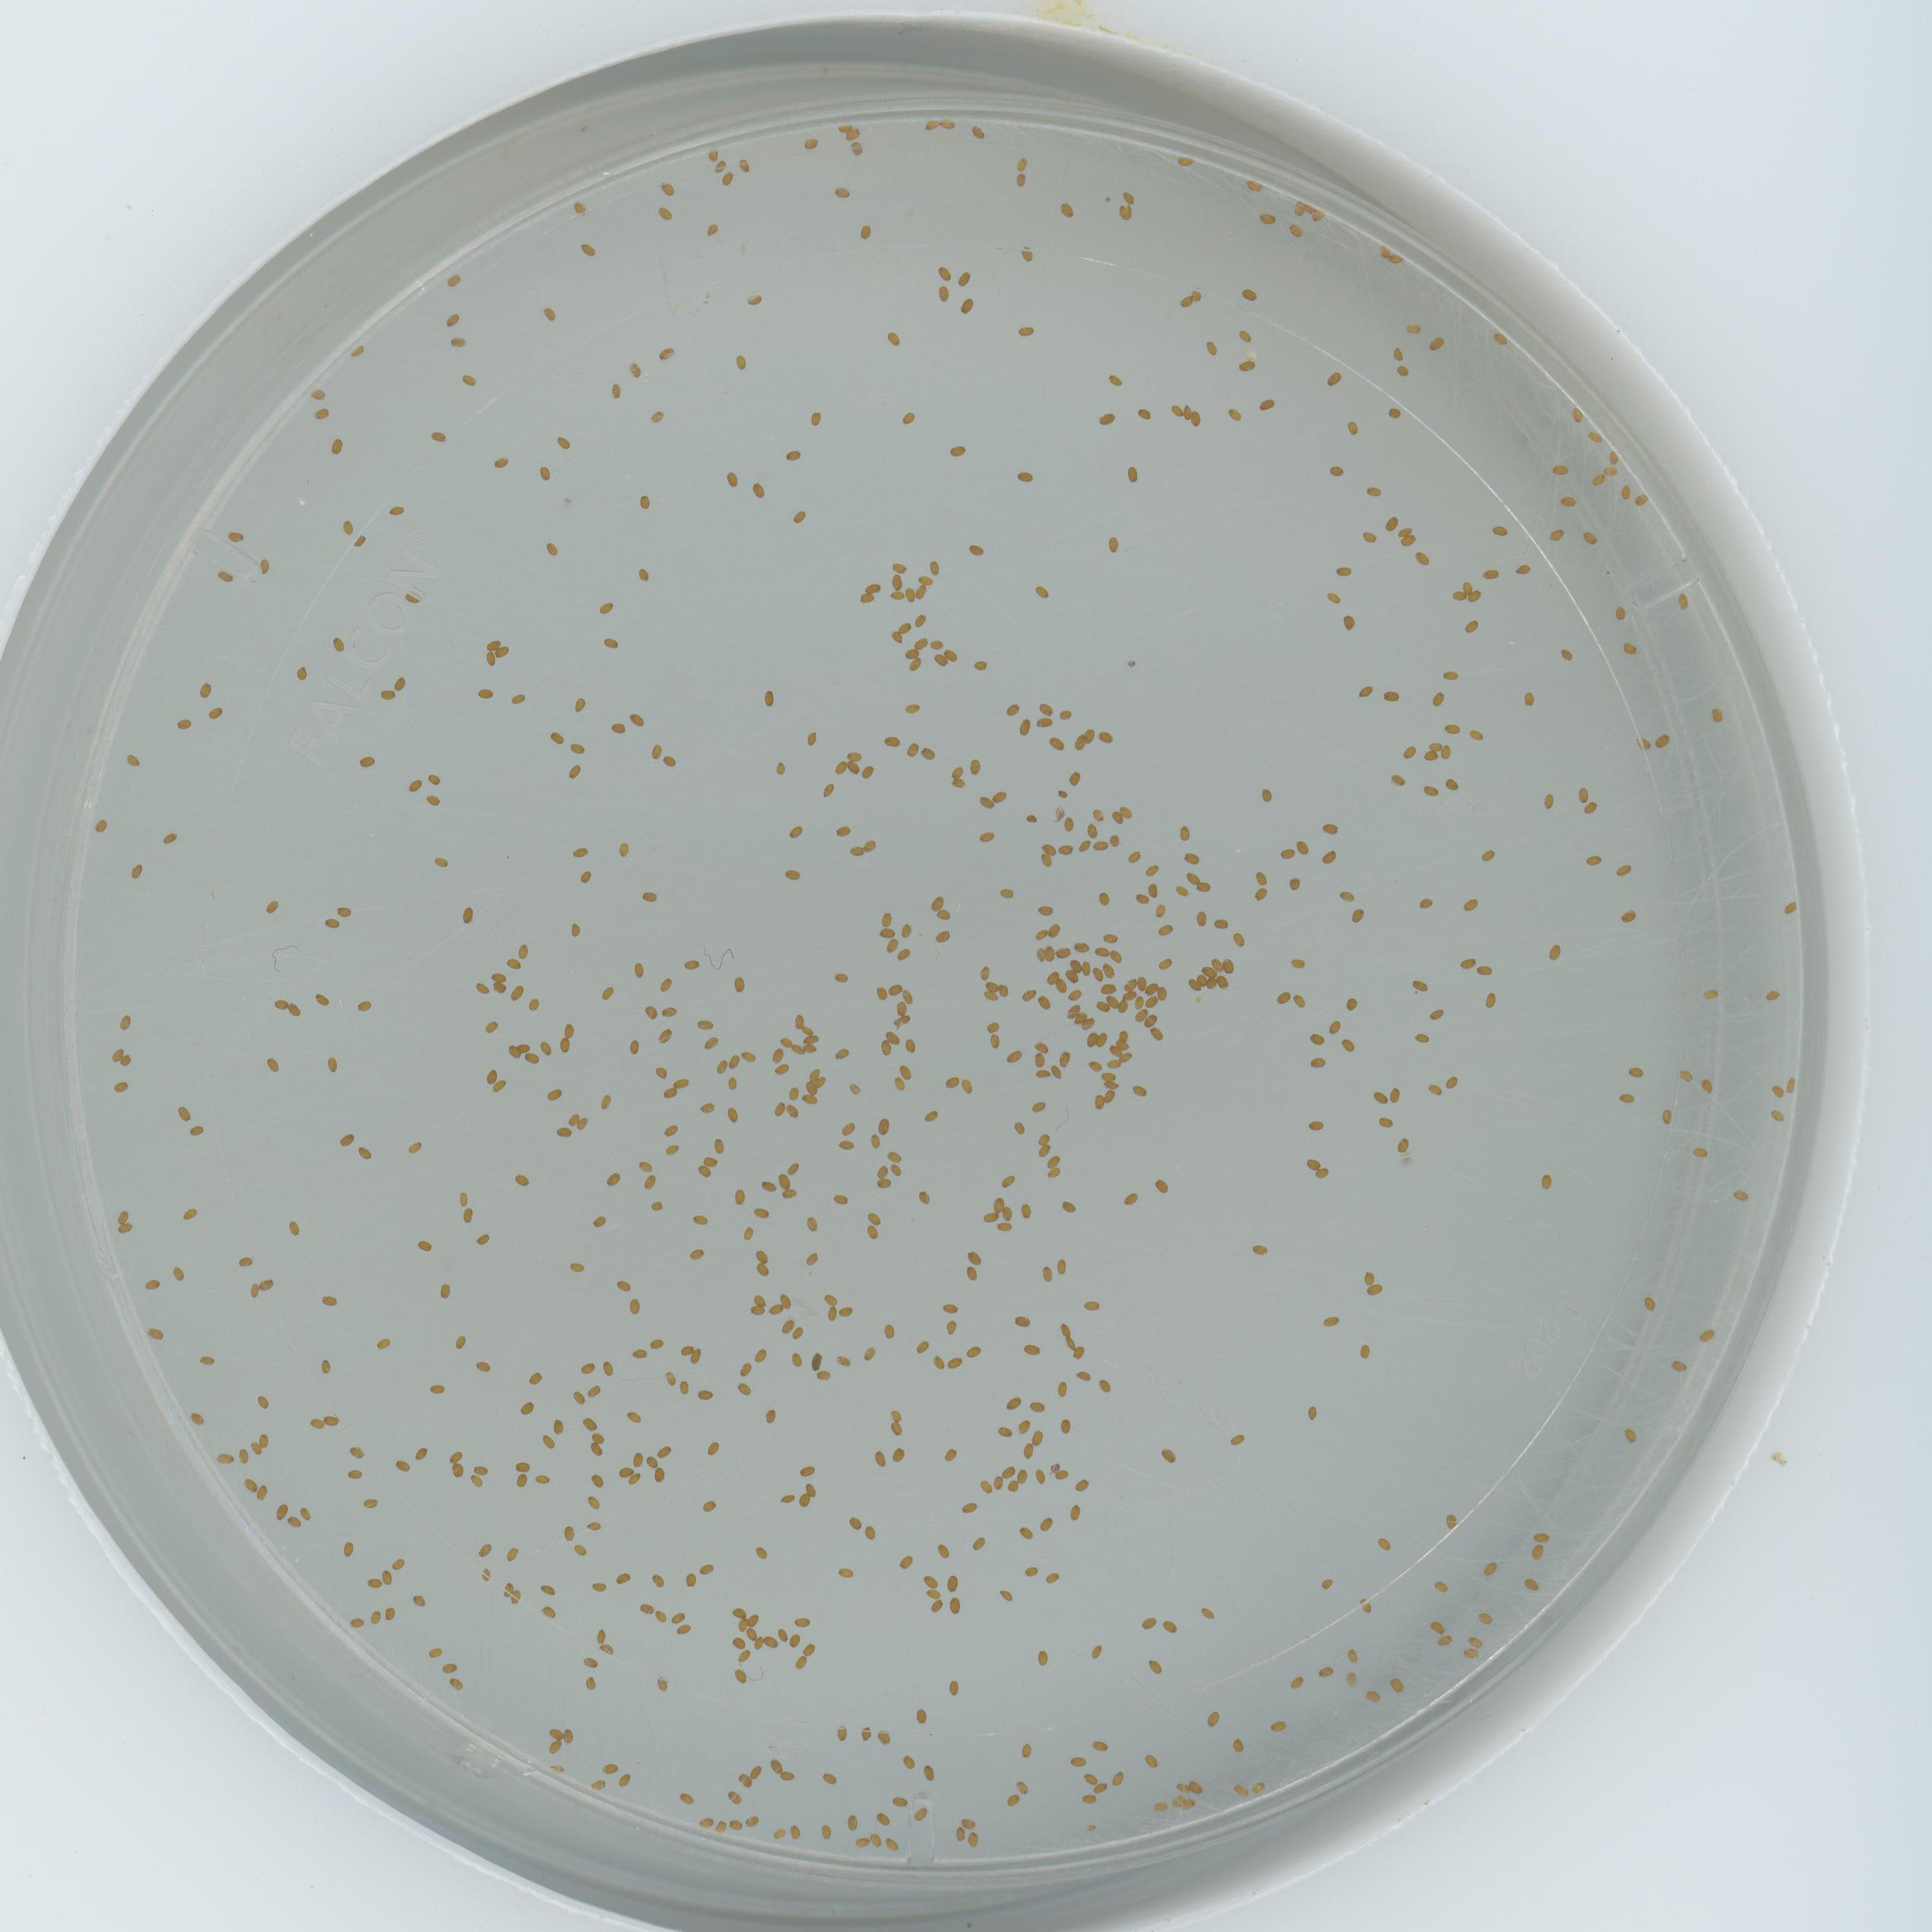seed: (403, 587, 426, 607), (1454, 955, 1479, 973), (957, 1500, 978, 1520), (1658, 1104, 1677, 1125), (1677, 1065, 1697, 1086), (1700, 1076, 1720, 1097), (1780, 897, 1799, 918), (1491, 329, 1513, 349), (1568, 407, 1589, 426), (1587, 426, 1608, 446), (1369, 242, 1391, 262), (1116, 202, 1134, 225), (899, 1062, 918, 1081), (1017, 1201, 1037, 1221), (1762, 987, 1782, 1007), (1313, 205, 1332, 225), (1035, 853, 1056, 870), (1391, 1675, 1408, 1697), (1341, 1670, 1359, 1691), (1460, 1645, 1481, 1663), (1476, 1560, 1497, 1578), (1387, 249, 1408, 267), (1051, 1467, 1074, 1483), (587, 1778, 610, 1794), (734, 156, 754, 173), (878, 1115, 895, 1134), (890, 1074, 909, 1092), (874, 1729, 893, 1746), (626, 1295, 646, 1313), (1017, 985, 1037, 1003), (957, 1079, 975, 1099), (1362, 1686, 1380, 1706), (1357, 1598, 1375, 1617), (1589, 471, 1608, 488), (885, 1838, 904, 1856), (936, 283, 952, 304), (1476, 961, 1497, 977), (1424, 336, 1445, 352), (1690, 1145, 1711, 1161), (1476, 1612, 1497, 1628), (632, 957, 646, 980), (1171, 1796, 1194, 1810), (640, 888, 658, 906), (476, 685, 494, 702), (936, 264, 954, 281), (732, 352, 750, 370), (255, 557, 272, 575), (833, 182, 851, 200), (458, 906, 476, 924), (658, 1026, 676, 1044), (899, 1553, 916, 1571), (892, 1792, 909, 1810), (839, 1562, 856, 1580), (653, 1062, 671, 1079), (872, 1449, 890, 1467), (510, 984, 527, 1001), (876, 1810, 893, 1828), (147, 1323, 165, 1341), (216, 1449, 234, 1467), (911, 1805, 929, 1822), (901, 987, 918, 1005), (821, 1769, 839, 1787), (1430, 690, 1447, 708), (1016, 465, 1033, 483), (1491, 520, 1509, 538), (1150, 901, 1168, 918), (1238, 283, 1256, 301), (1058, 200, 1076, 218), (1016, 320, 1033, 338), (1093, 892, 1111, 909), (1157, 955, 1175, 973), (1580, 529, 1598, 547), (1157, 1444, 1175, 1461), (1033, 1067, 1051, 1085), (959, 1815, 977, 1833), (1769, 1109, 1787, 1127), (1530, 1545, 1548, 1562), (939, 117, 957, 134), (957, 297, 973, 317), (695, 1385, 715, 1401), (879, 1039, 895, 1058), (725, 1789, 745, 1805), (1171, 885, 1191, 901), (1382, 515, 1401, 531), (1003, 1047, 1023, 1063), (1102, 961, 1118, 980), (1465, 1633, 1484, 1649), (1605, 451, 1624, 467), (1394, 524, 1415, 538), (1097, 1028, 1111, 1049), (1675, 591, 1690, 612), (885, 734, 902, 750), (890, 559, 908, 575), (598, 598, 616, 614), (207, 706, 225, 722), (784, 867, 801, 883), (904, 741, 922, 757), (901, 409, 918, 425), (863, 579, 881, 594), (602, 633, 619, 649), (934, 927, 952, 943), (492, 453, 510, 469), (863, 837, 881, 853), (127, 865, 145, 881), (340, 520, 357, 536), (550, 729, 566, 747), (196, 681, 212, 699), (750, 481, 768, 497), (264, 899, 281, 915), (425, 793, 442, 809), (428, 426, 446, 442), (334, 904, 352, 920), (327, 437, 345, 453), (658, 180, 676, 196), (915, 633, 931, 651), (161, 830, 177, 847), (359, 752, 375, 770), (809, 410, 826, 426), (540, 304, 557, 320), (566, 920, 584, 936), (579, 241, 596, 257), (904, 699, 920, 717), (886, 329, 904, 345), (216, 566, 234, 582), (915, 582, 931, 600), (628, 361, 644, 379), (448, 1447, 465, 1463), (697, 1016, 715, 1031), (890, 1445, 908, 1461), (745, 1813, 763, 1829), (701, 1097, 718, 1113), (361, 1495, 379, 1511), (644, 1003, 662, 1019), (264, 1054, 281, 1070), (835, 1044, 853, 1060), (540, 1583, 557, 1599), (943, 1575, 959, 1592), (915, 1338, 932, 1353), (901, 1037, 918, 1053), (175, 1104, 191, 1122), (582, 1654, 600, 1670), (580, 1414, 598, 1430), (389, 1553, 405, 1571), (922, 1573, 939, 1589), (844, 1813, 862, 1829), (833, 1189, 851, 1205), (113, 1077, 129, 1095), (867, 1207, 885, 1223), (547, 1085, 564, 1100), (770, 1047, 787, 1063), (653, 1608, 669, 1626), (840, 1118, 858, 1134), (536, 1039, 554, 1054), (655, 1442, 672, 1458), (437, 1281, 453, 1299), (637, 1157, 655, 1173), (561, 1525, 577, 1543), (518, 1398, 536, 1414), (295, 1504, 313, 1520), (786, 1083, 801, 1100), (920, 1764, 936, 1782), (651, 1467, 669, 1483), (534, 1470, 552, 1486), (642, 1173, 660, 1189), (741, 1226, 759, 1242), (732, 1187, 750, 1203), (778, 1030, 794, 1047), (702, 1497, 718, 1514), (598, 1093, 616, 1109), (476, 1541, 494, 1557), (382, 1605, 398, 1622), (663, 1141, 681, 1157), (770, 1100, 786, 1118), (800, 1461, 817, 1477), (711, 1136, 729, 1152), (366, 1608, 384, 1624), (428, 1378, 446, 1394), (702, 1033, 720, 1049), (320, 1290, 338, 1306), (752, 1346, 770, 1362), (637, 1599, 655, 1615), (441, 1660, 458, 1675), (570, 1389, 587, 1405), (347, 1444, 364, 1460), (915, 1187, 932, 1203), (285, 1219, 303, 1235), (725, 1104, 741, 1122), (568, 1256, 586, 1272), (787, 1102, 803, 1120), (833, 1727, 851, 1743), (803, 1481, 819, 1499), (817, 1824, 835, 1840), (736, 1773, 754, 1789), (1182, 851, 1200, 867), (1483, 564, 1500, 580), (1320, 849, 1338, 865), (1123, 465, 1139, 483), (1422, 782, 1440, 798), (1382, 688, 1399, 704), (1575, 787, 1592, 803), (1587, 851, 1603, 869), (1389, 771, 1407, 787), (1182, 870, 1200, 886), (968, 759, 984, 777), (1100, 929, 1118, 945), (1557, 646, 1575, 662), (1155, 920, 1173, 936), (1621, 908, 1638, 924), (1192, 911, 1208, 929), (1339, 614, 1357, 630), (1361, 529, 1378, 545), (991, 787, 1008, 803), (1514, 561, 1532, 577), (1175, 826, 1192, 842), (1338, 888, 1355, 904), (1058, 817, 1076, 833), (1389, 345, 1407, 361), (1350, 906, 1366, 924), (1003, 702, 1021, 718), (1479, 847, 1497, 863), (1016, 718, 1033, 734), (1031, 582, 1047, 600), (1258, 211, 1276, 226), (1323, 370, 1341, 386), (1097, 409, 1115, 425), (1394, 361, 1410, 379), (1070, 936, 1088, 952), (1548, 525, 1566, 541), (1106, 810, 1123, 826), (1307, 1028, 1325, 1044), (1014, 1417, 1031, 1433), (1325, 1017, 1343, 1033), (1339, 1035, 1357, 1051), (1343, 996, 1361, 1012), (1426, 1079, 1444, 1095), (1154, 1178, 1171, 1194), (1079, 1769, 1097, 1785), (1035, 994, 1053, 1010), (1074, 1368, 1092, 1384), (1026, 1398, 1044, 1414), (1012, 1311, 1030, 1327), (1085, 1054, 1102, 1070), (1042, 1569, 1060, 1585), (1628, 1062, 1645, 1077), (1067, 1753, 1085, 1769), (1304, 1154, 1320, 1171), (1090, 1737, 1108, 1753), (1122, 1189, 1139, 1205), (1030, 1468, 1047, 1484), (1392, 1136, 1410, 1152), (1021, 1339, 1039, 1355), (1053, 1258, 1069, 1276), (1035, 1516, 1053, 1532), (1065, 1504, 1083, 1520), (1109, 1769, 1125, 1787), (1155, 985, 1171, 1003), (1376, 1113, 1394, 1129), (1203, 1711, 1219, 1729), (1031, 1037, 1049, 1053), (1323, 1311, 1341, 1327), (1049, 1063, 1067, 1079), (1069, 1345, 1086, 1361), (1145, 1660, 1162, 1675), (1141, 1753, 1159, 1769), (1288, 1675, 1306, 1691), (1642, 1295, 1660, 1311), (1104, 1054, 1120, 1072), (1228, 1737, 1246, 1753), (1251, 1240, 1269, 1256), (1286, 225, 1304, 241), (1769, 1083, 1785, 1100), (111, 1047, 127, 1065), (1270, 1718, 1288, 1734), (1189, 1780, 1207, 1796), (1175, 1782, 1192, 1798), (1783, 1077, 1799, 1095), (1633, 492, 1651, 508), (1246, 177, 1263, 193), (1178, 152, 1196, 168), (922, 117, 939, 133), (478, 1566, 494, 1583), (715, 1056, 729, 1076), (600, 1762, 619, 1776), (515, 1039, 534, 1053), (1035, 904, 1054, 918), (1223, 955, 1237, 975), (1085, 1028, 1099, 1047), (803, 136, 823, 150), (1601, 465, 1621, 479), (835, 119, 855, 133), (545, 1762, 564, 1776), (1001, 1203, 1014, 1224), (1530, 1530, 1552, 1543), (879, 909, 895, 925), (913, 612, 929, 628), (379, 688, 395, 704), (637, 494, 653, 510), (616, 842, 632, 858), (846, 761, 862, 777), (610, 720, 626, 736), (389, 502, 405, 518), (313, 405, 329, 421), (556, 435, 571, 451), (725, 472, 741, 488), (948, 442, 964, 458), (948, 764, 964, 780), (426, 771, 442, 787), (609, 382, 625, 398), (571, 844, 587, 860), (451, 334, 467, 350), (92, 817, 108, 833), (649, 743, 665, 759), (433, 855, 449, 870), (292, 667, 308, 683), (331, 637, 347, 653), (571, 697, 587, 713), (324, 915, 340, 931), (651, 407, 667, 423), (823, 782, 839, 798), (879, 924, 895, 939), (929, 895, 945, 911), (536, 465, 552, 481), (761, 690, 777, 706), (931, 637, 947, 653), (863, 764, 879, 780), (791, 510, 807, 525), (350, 534, 366, 550), (786, 446, 801, 462), (226, 527, 242, 543), (849, 140, 865, 156), (858, 225, 874, 241), (660, 345, 676, 361), (462, 372, 478, 387), (706, 221, 722, 237), (897, 617, 913, 633), (124, 754, 140, 770), (886, 938, 902, 954), (805, 731, 821, 747), (925, 561, 941, 577), (849, 844, 865, 860), (571, 200, 587, 216), (713, 156, 729, 172), (955, 272, 971, 288), (918, 571, 934, 587), (881, 1322, 897, 1338), (754, 1203, 770, 1219), (451, 1463, 467, 1479), (356, 996, 372, 1012), (858, 1727, 874, 1743), (318, 1357, 334, 1373), (410, 1592, 426, 1608), (794, 1614, 810, 1629), (651, 1573, 667, 1589), (483, 1017, 499, 1033), (662, 1003, 678, 1019), (540, 1433, 556, 1449), (589, 1472, 605, 1488), (561, 1023, 577, 1039), (375, 1334, 391, 1350), (235, 1449, 251, 1465), (616, 1276, 632, 1292), (605, 1169, 621, 1185), (550, 1417, 566, 1433), (525, 996, 541, 1012), (593, 1628, 609, 1644), (863, 1525, 879, 1541), (663, 1122, 679, 1138), (626, 1407, 642, 1422), (729, 1815, 745, 1831), (794, 1654, 810, 1670), (777, 1171, 793, 1187), (586, 1382, 602, 1398), (945, 1072, 961, 1088), (632, 1345, 648, 1361), (789, 1350, 805, 1366), (947, 1353, 962, 1369), (455, 1189, 471, 1205), (591, 1212, 607, 1228), (412, 1444, 428, 1460), (888, 1146, 904, 1162), (863, 1345, 879, 1361), (888, 1421, 904, 1437), (324, 1053, 340, 1069), (313, 991, 329, 1007), (483, 1067, 499, 1083), (734, 1668, 750, 1684), (600, 1361, 616, 1376), (474, 1230, 490, 1246), (591, 1578, 607, 1594), (271, 996, 287, 1012), (170, 1263, 186, 1279), (801, 1640, 817, 1656), (888, 980, 904, 996), (847, 1514, 863, 1530), (474, 1357, 490, 1373), (778, 1318, 794, 1334), (901, 1753, 916, 1769), (835, 1352, 851, 1368), (349, 1614, 364, 1629), (947, 1598, 962, 1614), (380, 1569, 396, 1585), (699, 1560, 715, 1576), (586, 1495, 602, 1511), (255, 1392, 271, 1408), (943, 1318, 959, 1334), (823, 1290, 839, 1306), (890, 1407, 906, 1422), (453, 1332, 469, 1348), (688, 1244, 704, 1260), (117, 1014, 133, 1030), (617, 1771, 633, 1787), (600, 1642, 616, 1658), (241, 1476, 257, 1491), (683, 1571, 699, 1587), (189, 1122, 205, 1138), (462, 1207, 478, 1223), (272, 1502, 288, 1518), (416, 1237, 432, 1253), (805, 1249, 821, 1265), (541, 1605, 557, 1621), (347, 1465, 363, 1481), (874, 985, 890, 1001), (515, 1171, 531, 1187), (694, 1210, 709, 1226), (189, 1408, 205, 1424), (340, 1541, 356, 1557), (816, 1368, 832, 1384), (513, 1474, 529, 1490), (947, 1679, 962, 1695), (674, 1072, 690, 1088), (626, 1037, 642, 1053), (809, 1353, 824, 1369), (580, 1361, 596, 1376), (752, 1290, 768, 1306), (630, 1451, 646, 1467), (886, 1026, 902, 1042), (943, 1445, 959, 1461), (426, 1644, 442, 1660), (467, 1474, 483, 1490), (571, 1541, 587, 1557), (671, 1608, 686, 1624), (755, 1261, 771, 1277), (847, 1079, 863, 1095), (775, 1060, 791, 1076), (761, 1177, 777, 1192), (731, 1603, 747, 1619), (584, 1675, 600, 1691), (731, 1635, 747, 1651), (867, 1224, 883, 1240), (287, 1513, 303, 1529), (780, 1292, 796, 1307), (690, 1348, 706, 1364), (913, 1707, 929, 1723), (807, 1065, 823, 1081), (547, 1741, 563, 1757), (499, 1582, 515, 1598), (803, 1081, 819, 1097), (117, 1219, 133, 1235), (855, 1833, 870, 1849), (732, 1619, 748, 1635), (1047, 736, 1063, 752), (1417, 895, 1433, 911), (1444, 720, 1460, 736), (1203, 340, 1219, 356), (1463, 617, 1479, 633), (1258, 787, 1274, 803), (1329, 462, 1345, 478), (1279, 846, 1295, 862), (1083, 823, 1099, 839), (1037, 701, 1053, 717), (1463, 895, 1479, 911), (1177, 294, 1192, 310), (1366, 481, 1382, 497), (1106, 372, 1122, 387), (1322, 821, 1338, 837), (1125, 849, 1141, 865), (1077, 839, 1093, 855), (1541, 793, 1557, 809), (1104, 536, 1120, 552), (1099, 729, 1115, 745), (1345, 419, 1361, 435), (1237, 327, 1253, 343), (1414, 550, 1430, 566), (1238, 356, 1254, 372), (1253, 888, 1269, 904), (1325, 589, 1341, 605), (1046, 922, 1062, 938), (1522, 690, 1537, 706), (1253, 872, 1269, 888), (1258, 396, 1274, 412), (1212, 915, 1228, 931), (1546, 945, 1562, 961), (1230, 931, 1246, 947), (1168, 402, 1184, 418), (1295, 839, 1311, 855), (1054, 708, 1070, 724), (1468, 727, 1484, 743), (1090, 807, 1106, 823), (1023, 810, 1039, 826), (1106, 833, 1122, 849), (1617, 483, 1633, 499), (1656, 732, 1672, 748), (1017, 246, 1033, 262), (1622, 640, 1638, 656), (1067, 985, 1083, 1001), (1428, 1007, 1444, 1023), (1139, 1614, 1155, 1629), (1056, 1417, 1072, 1433), (1161, 1619, 1177, 1635), (1304, 1405, 1320, 1421), (1014, 1778, 1030, 1794), (1033, 1649, 1049, 1665), (1019, 1442, 1035, 1458), (1366, 1281, 1382, 1297), (1316, 1663, 1332, 1679), (1007, 1392, 1023, 1408), (1037, 1265, 1053, 1281), (1430, 1619, 1445, 1635), (996, 1422, 1012, 1438), (1483, 991, 1499, 1007), (1376, 1536, 1392, 1552), (1012, 1118, 1028, 1134), (1083, 1295, 1099, 1311), (966, 1343, 982, 1359), (1102, 1088, 1118, 1104), (1309, 1053, 1325, 1069), (1028, 1430, 1044, 1445), (1307, 1115, 1323, 1131), (998, 1587, 1014, 1603), (966, 1249, 982, 1265), (1414, 1028, 1430, 1044), (1230, 1430, 1246, 1445), (985, 1017, 1001, 1033), (1371, 1088, 1387, 1104), (1017, 1744, 1033, 1760), (977, 966, 993, 982), (1023, 1562, 1039, 1578), (1042, 970, 1058, 985), (1444, 1513, 1460, 1529), (987, 1033, 1003, 1049), (977, 1479, 993, 1495), (1150, 1026, 1166, 1042), (1001, 1171, 1017, 1187), (1537, 1173, 1553, 1189), (1122, 975, 1138, 991), (1198, 1605, 1214, 1621), (1345, 1647, 1361, 1663), (1123, 985, 1139, 1001), (1233, 1782, 1249, 1798), (1251, 1782, 1267, 1798), (1152, 1799, 1168, 1815), (1700, 1329, 1716, 1345), (1732, 1187, 1748, 1203), (1635, 734, 1651, 750), (1709, 708, 1725, 724), (1069, 957, 1085, 973), (899, 924, 916, 938), (566, 764, 584, 778), (543, 541, 561, 556), (577, 870, 594, 885), (906, 658, 924, 672), (858, 591, 876, 605), (904, 586, 918, 603), (310, 387, 327, 402), (839, 1136, 856, 1150), (472, 980, 490, 994), (235, 1253, 253, 1267), (736, 1380, 754, 1394), (922, 1106, 939, 1120), (867, 1132, 885, 1146), (741, 1047, 759, 1062), (695, 1164, 713, 1178), (525, 1371, 543, 1385), (931, 1353, 948, 1368), (754, 1247, 771, 1261), (780, 1769, 798, 1783), (763, 1408, 780, 1422), (803, 1215, 821, 1230), (793, 1325, 810, 1339), (642, 1454, 660, 1468), (697, 1815, 715, 1829), (492, 1079, 510, 1093), (115, 1207, 129, 1224), (787, 1042, 805, 1056), (1224, 407, 1242, 421), (1143, 863, 1161, 878), (1194, 881, 1212, 895), (1035, 715, 1053, 729), (1334, 564, 1352, 579), (1092, 943, 1109, 957), (1290, 955, 1307, 970), (1000, 1463, 1017, 1477), (1072, 1477, 1090, 1491), (1016, 1525, 1033, 1539), (1058, 1049, 1072, 1067), (1053, 1382, 1070, 1396), (1079, 1017, 1097, 1031), (1431, 1580, 1449, 1594), (1072, 1012, 1090, 1026), (1306, 198, 1320, 216), (1079, 959, 1093, 977), (844, 127, 862, 142), (349, 345, 366, 359), (1550, 465, 1573, 476), (1559, 497, 1582, 508), (504, 957, 524, 970), (1191, 410, 1203, 430), (628, 713, 644, 727), (658, 205, 674, 219), (635, 566, 651, 580), (510, 692, 525, 706), (847, 747, 863, 761), (932, 653, 948, 667), (391, 676, 407, 690), (773, 761, 789, 775), (444, 311, 460, 326), (175, 717, 191, 731), (662, 754, 678, 768), (720, 170, 736, 184), (943, 648, 959, 662), (407, 778, 423, 793), (904, 648, 920, 662), (920, 747, 936, 761), (890, 575, 904, 591), (570, 741, 586, 755), (517, 943, 531, 959), (895, 947, 911, 961), (748, 292, 764, 306), (837, 824, 853, 839), (446, 272, 462, 287), (395, 1458, 410, 1472), (504, 1546, 518, 1562), (524, 1049, 540, 1063), (732, 977, 748, 991), (557, 1037, 573, 1051), (448, 1679, 464, 1693), (839, 1304, 855, 1318), (515, 1458, 531, 1472), (878, 1177, 893, 1191), (586, 1518, 602, 1532), (663, 1085, 679, 1099), (356, 1145, 372, 1159), (616, 1571, 632, 1585), (929, 1599, 945, 1614), (777, 1628, 791, 1644), (338, 1131, 354, 1145), (322, 1412, 338, 1426), (258, 1276, 274, 1290), (143, 1276, 159, 1290), (600, 985, 616, 1000), (706, 1440, 722, 1454), (649, 1336, 665, 1350), (287, 1001, 303, 1016), (745, 1628, 759, 1644), (472, 1461, 488, 1476), (704, 1152, 720, 1166), (198, 1352, 214, 1366), (628, 1472, 644, 1486), (791, 1014, 807, 1028), (591, 1430, 607, 1444), (548, 1725, 563, 1741), (755, 1545, 770, 1560), (747, 1612, 763, 1626), (768, 1302, 784, 1316), (941, 1300, 957, 1315), (658, 978, 674, 993), (308, 1415, 324, 1430), (649, 1198, 665, 1212), (556, 1123, 571, 1138), (364, 1576, 380, 1591), (789, 1824, 803, 1840), (824, 1306, 839, 1322), (782, 1187, 798, 1201), (768, 1759, 784, 1773), (780, 1490, 796, 1504), (407, 1138, 423, 1152), (655, 1675, 669, 1691), (508, 1042, 522, 1058), (787, 1157, 801, 1173), (678, 1622, 692, 1638), (798, 1493, 814, 1507), (617, 1463, 632, 1479), (679, 1341, 694, 1357), (925, 1585, 941, 1599), (833, 970, 849, 984), (893, 1000, 908, 1016), (679, 1790, 695, 1805), (952, 1828, 966, 1844), (663, 1371, 679, 1385), (249, 1440, 264, 1456), (895, 1012, 911, 1026), (764, 1633, 778, 1649), (257, 1433, 271, 1449), (870, 1831, 886, 1845), (978, 796, 994, 810), (1286, 878, 1302, 892), (968, 543, 984, 557), (1617, 863, 1633, 878), (1145, 885, 1161, 899), (1444, 777, 1460, 791), (1422, 750, 1438, 764), (1065, 771, 1081, 786), (1442, 669, 1458, 683), (1401, 745, 1417, 759), (1357, 685, 1373, 699), (1438, 747, 1454, 761), (980, 830, 996, 844), (1136, 405, 1150, 421), (1109, 948, 1125, 962), (1467, 589, 1483, 603), (1385, 405, 1401, 419), (1120, 189, 1136, 203), (1583, 801, 1599, 816), (1072, 734, 1086, 750), (1012, 156, 1028, 170), (1053, 945, 1069, 959), (1012, 172, 1028, 186), (1000, 886, 1016, 901), (1031, 927, 1047, 941), (1092, 839, 1106, 855), (1053, 787, 1069, 801), (1182, 405, 1196, 421), (1083, 727, 1097, 743), (970, 126, 985, 140), (1428, 738, 1444, 752), (1276, 989, 1292, 1003), (1357, 1343, 1373, 1357), (1412, 978, 1428, 993), (1293, 993, 1307, 1008), (1444, 1074, 1460, 1088), (1005, 1479, 1021, 1493), (1088, 1645, 1104, 1660), (1035, 1131, 1051, 1145), (1054, 1320, 1070, 1334), (1097, 1378, 1113, 1392), (996, 1219, 1012, 1233), (1058, 1198, 1074, 1212), (982, 1208, 998, 1223), (1131, 1083, 1146, 1097), (1092, 1780, 1108, 1794), (1318, 1576, 1334, 1591), (1389, 1085, 1403, 1100), (1028, 1099, 1044, 1113), (1005, 1792, 1021, 1806), (1215, 975, 1230, 991), (1115, 1000, 1131, 1014), (1093, 998, 1109, 1012), (1361, 1270, 1376, 1284), (966, 1263, 980, 1279), (1619, 1090, 1635, 1104), (970, 1536, 985, 1550), (1100, 1069, 1116, 1083), (996, 982, 1012, 996), (1090, 966, 1104, 982), (1134, 1007, 1148, 1023), (989, 1474, 1003, 1490), (1081, 1790, 1097, 1805), (991, 1196, 1005, 1212), (1115, 1028, 1131, 1042), (966, 1833, 980, 1849), (1065, 1001, 1079, 1017), (771, 1826, 787, 1840), (812, 1074, 828, 1088), (982, 991, 998, 1005), (1120, 1049, 1136, 1063), (888, 632, 906, 644), (589, 1444, 607, 1456), (490, 970, 508, 982), (492, 982, 510, 994), (1097, 980, 1115, 993), (1200, 966, 1217, 978), (801, 1042, 819, 1054), (1046, 945, 1056, 964), (1102, 1079, 1122, 1090), (833, 761, 847, 775), (495, 646, 510, 660), (791, 824, 805, 839), (483, 653, 497, 667), (890, 1162, 904, 1177), (936, 1543, 950, 1557), (740, 1362, 754, 1376), (563, 1729, 577, 1743), (738, 1649, 752, 1663), (750, 1764, 764, 1778), (182, 1205, 196, 1219), (789, 1633, 803, 1647), (678, 1380, 692, 1394), (725, 1074, 740, 1088), (876, 1162, 890, 1177), (577, 1115, 591, 1129), (713, 1819, 727, 1833), (257, 1484, 271, 1499), (510, 1589, 524, 1603), (752, 1638, 766, 1652), (1058, 844, 1072, 858), (1134, 893, 1148, 908), (973, 658, 987, 672), (1191, 287, 1205, 301), (1120, 803, 1134, 817), (1016, 1468, 1030, 1483), (1187, 978, 1201, 993), (1054, 978, 1069, 993), (1046, 1154, 1060, 1168), (1141, 978, 1155, 993), (1065, 970, 1079, 984), (1060, 1336, 1074, 1350), (1030, 1051, 1044, 1065), (1525, 1578, 1539, 1592), (485, 637, 501, 649), (936, 909, 952, 922), (890, 591, 906, 603), (729, 1053, 741, 1069), (803, 1093, 819, 1106), (750, 1304, 766, 1316), (119, 1054, 134, 1067), (1451, 589, 1467, 602), (1399, 534, 1415, 547), (1039, 842, 1054, 855), (1460, 580, 1476, 593), (1092, 1093, 1104, 1109), (1106, 1042, 1122, 1054), (1315, 1166, 1330, 1178), (1044, 1166, 1060, 1178), (1437, 1635, 1453, 1647), (1116, 1040, 1132, 1053), (1145, 1010, 1157, 1026), (985, 977, 998, 993), (1617, 605, 1629, 621), (800, 1026, 816, 1039), (1207, 975, 1219, 991), (1293, 202, 1306, 218), (950, 777, 964, 789), (246, 1283, 258, 1297), (566, 1109, 579, 1123), (1145, 994, 1159, 1007), (1037, 1145, 1051, 1157), (1210, 959, 1224, 971), (1626, 1430, 1638, 1444), (1196, 975, 1208, 989), (1033, 947, 1044, 962), (685, 959, 701, 970), (803, 1037, 821, 1046), (1407, 326, 1421, 336), (1704, 991, 1720, 1000)
